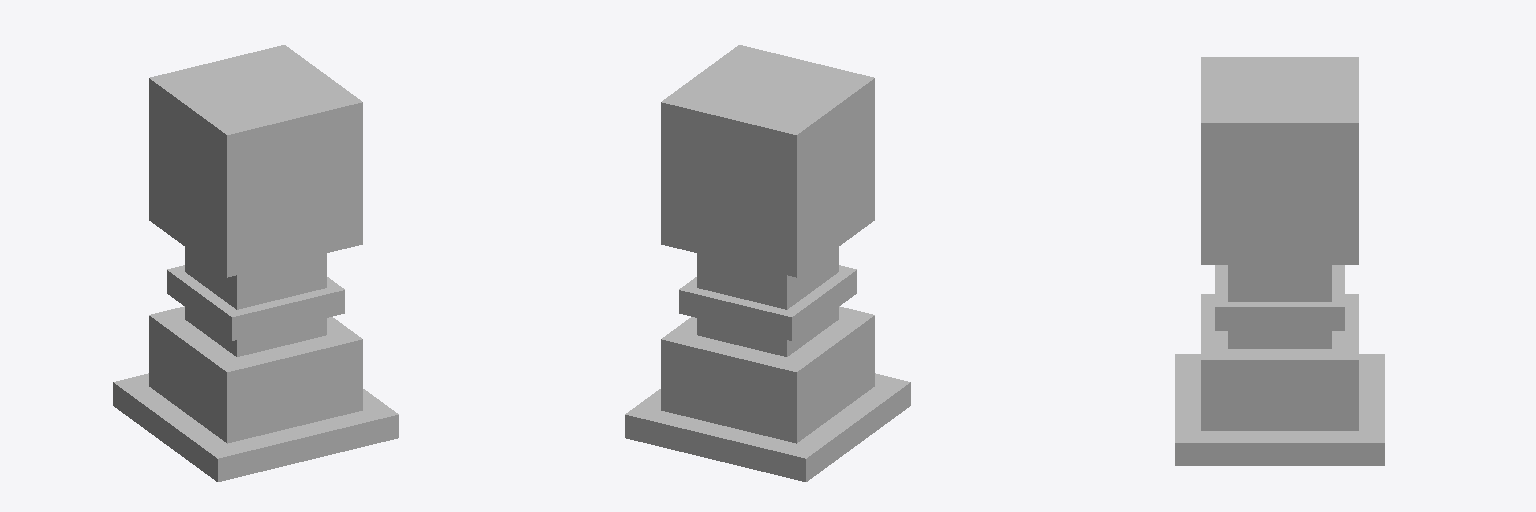
Rendered from pawn.obj.
The picture shows the model from 3 angles: view 1: azimuth 30°, elevation 25°; view 2: azimuth 150°, elevation 25°; view 3: azimuth 270°, elevation 25°; orthographic projection.
Parts seen in each view (by area): view 1: cube.001, cube.003, cube.004, cube, cube.002; view 2: cube.001, cube.003, cube.004, cube, cube.002; view 3: cube.001, cube.003, cube.004, cube, cube.002.
Part boxes in pixels (left/top/right/bottom): cube.001: left=149, top=45, right=362, bottom=277; cube.003: left=149, top=306, right=362, bottom=443; cube.004: left=113, top=373, right=398, bottom=481; cube: left=185, top=247, right=326, bottom=356; cube.002: left=167, top=265, right=344, bottom=340; cube.001: left=661, top=45, right=874, bottom=277; cube.003: left=661, top=306, right=874, bottom=443; cube.004: left=625, top=373, right=910, bottom=481; cube: left=697, top=247, right=838, bottom=356; cube.002: left=679, top=265, right=856, bottom=340; cube.001: left=1201, top=57, right=1358, bottom=264; cube.003: left=1201, top=294, right=1358, bottom=430; cube.004: left=1175, top=354, right=1384, bottom=465; cube: left=1228, top=265, right=1331, bottom=348; cube.002: left=1215, top=265, right=1344, bottom=330.
Bounding box in the file's own units: 0.5 × 0.875 × 0.5.